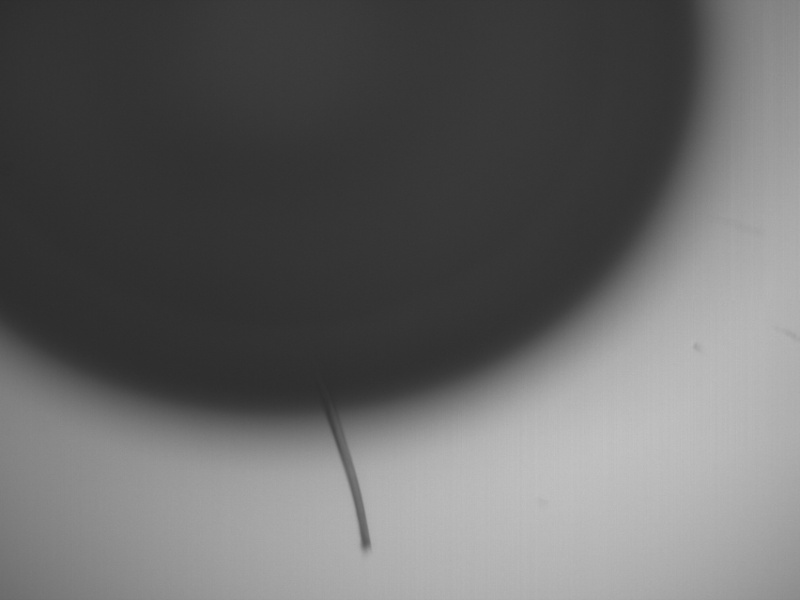bead: (1, 1, 701, 417)
fiber: (303, 338, 374, 554)
